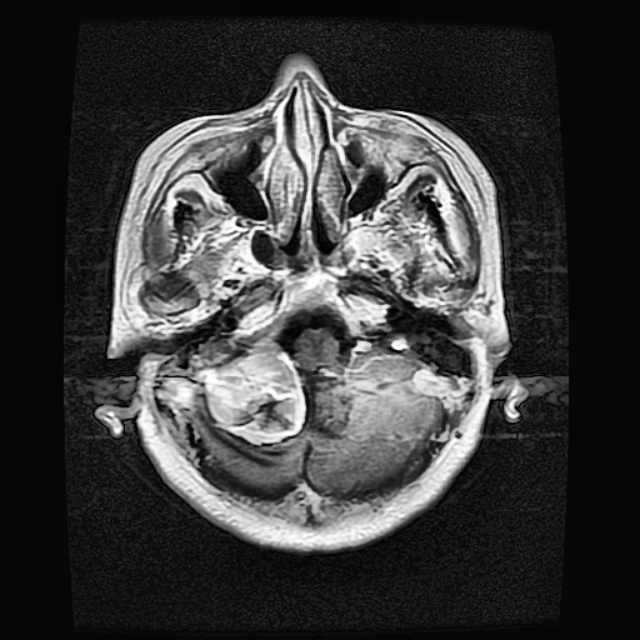Pituitary: (192, 339, 307, 442)
